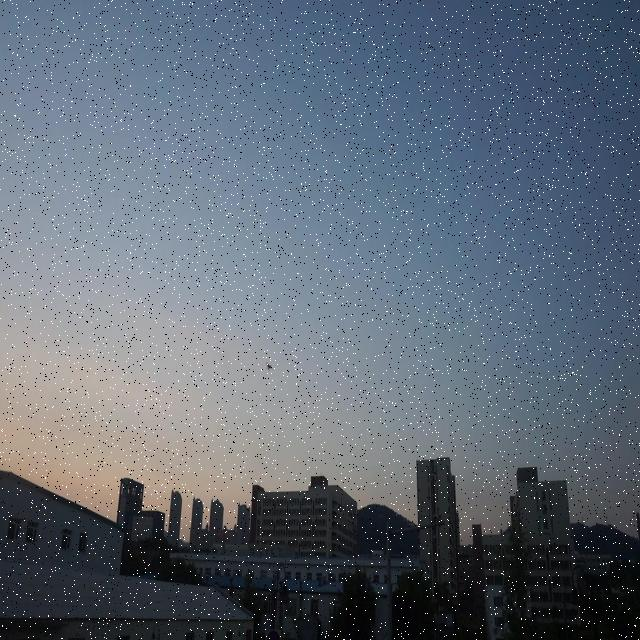UAV: (265, 362, 274, 372)
